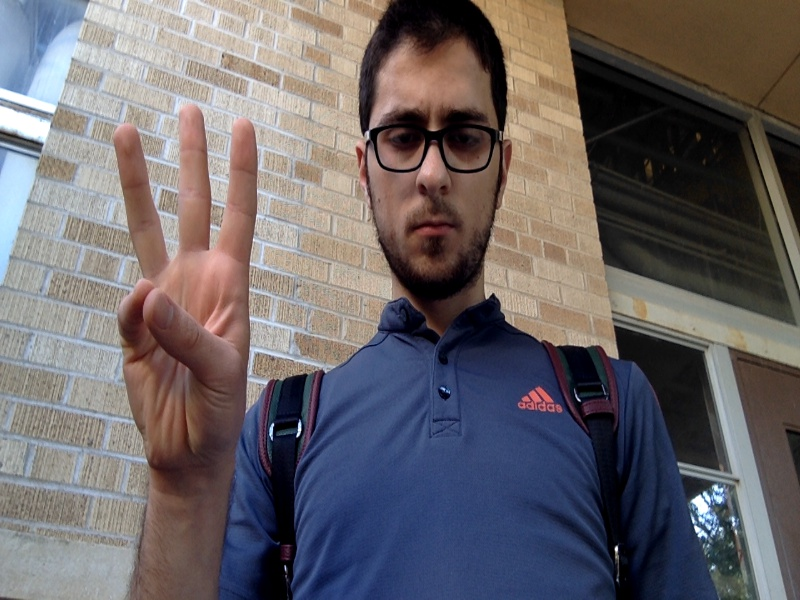3-hand: (115, 106, 256, 480)
